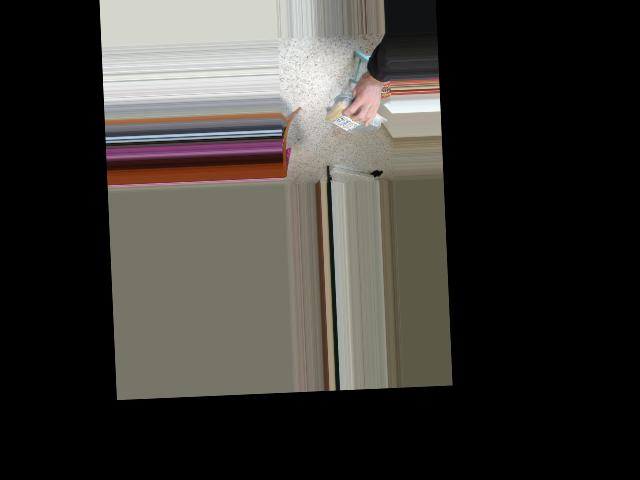cheese: (319, 101, 383, 132)
